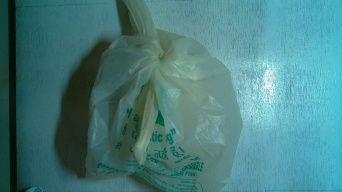f: (96, 14, 245, 188)
